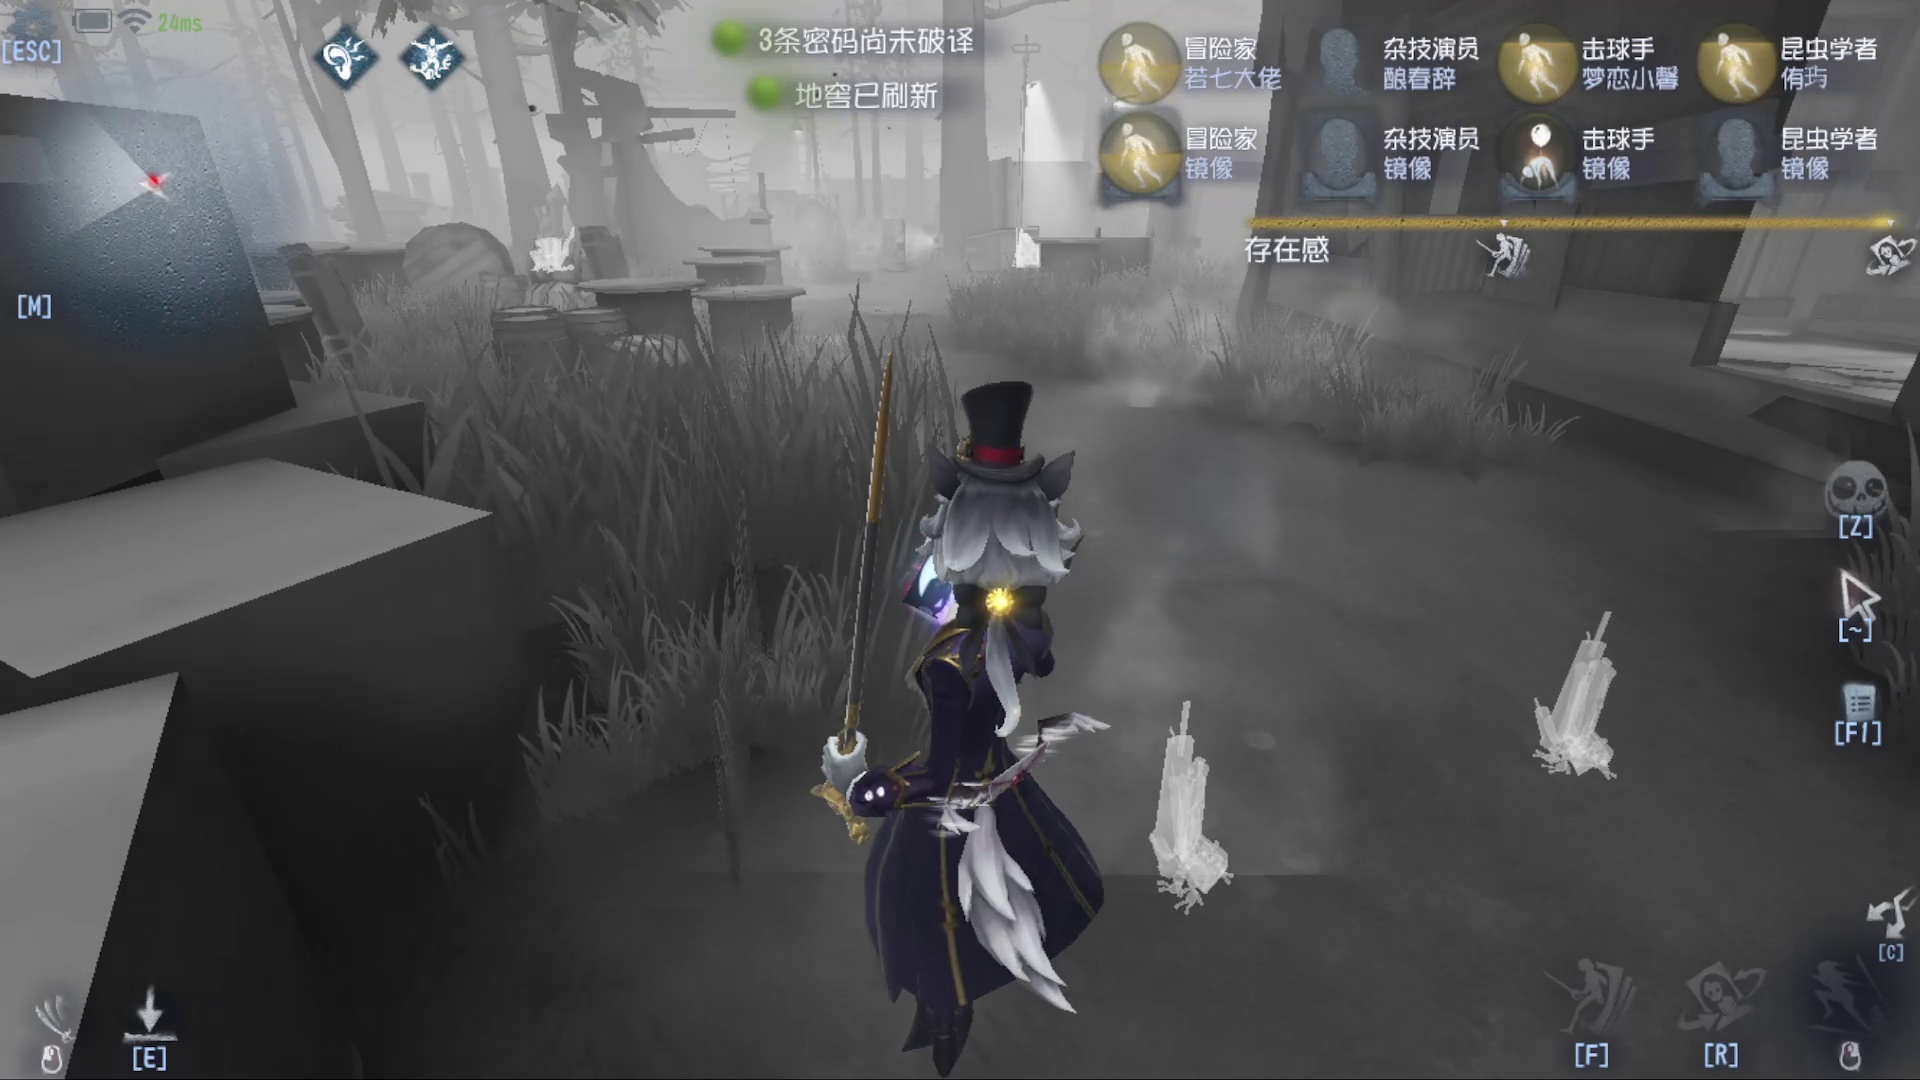狂欢之椅: (1129, 698, 1251, 940), (1520, 558, 1636, 811), (514, 169, 592, 265)
